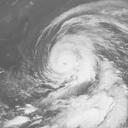cyclone: (34, 24, 100, 87)
